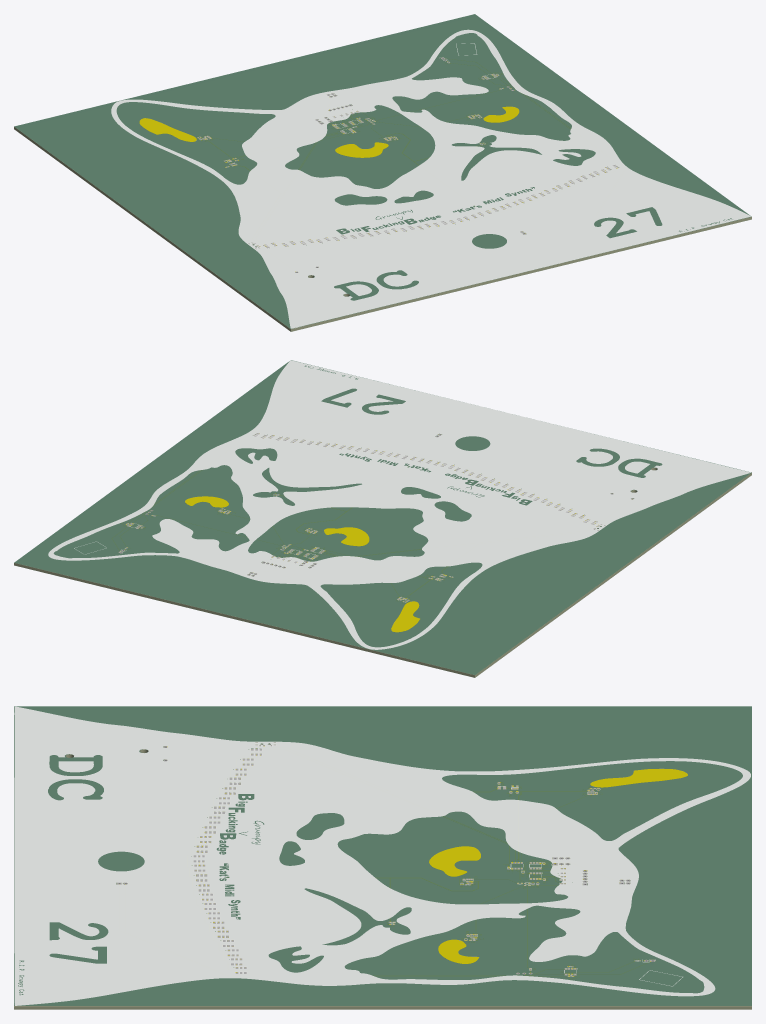
The model's file is bigfuckingbadge-kat-s-midi-synth.glb.
3 renders of one model, top to bottom at view 1: azimuth 30°, elevation 25°; view 2: azimuth 150°, elevation 25°; view 3: azimuth 270°, elevation 25°, orthographic. The views are drawn at different scales.
Parts seen in each view (by area): view 1: =>[0:1:1:7], =>[0:1:1:5], =>[0:1:1:9], =>[0:1:1:2]; view 2: =>[0:1:1:7], =>[0:1:1:5], =>[0:1:1:9], =>[0:1:1:2]; view 3: =>[0:1:1:5], =>[0:1:1:7], =>[0:1:1:9], =>[0:1:1:2].
Boxes of the visible parts, box(x1,y1,x2,y2) form: =>[0:1:1:7]: box(14, 14, 751, 329); =>[0:1:1:5]: box(111, 29, 751, 328); =>[0:1:1:9]: box(14, 15, 751, 331); =>[0:1:1:2]: box(139, 57, 618, 272); =>[0:1:1:7]: box(14, 360, 751, 674); =>[0:1:1:5]: box(48, 360, 750, 649); =>[0:1:1:9]: box(14, 363, 751, 677); =>[0:1:1:2]: box(119, 433, 633, 632); =>[0:1:1:5]: box(14, 706, 750, 1005); =>[0:1:1:7]: box(14, 706, 751, 1005); =>[0:1:1:9]: box(14, 707, 751, 1009); =>[0:1:1:2]: box(117, 742, 687, 976).
Bounding box in the file's own units: 0.2858 × 0.00167 × 0.2975.
4 materials, 4 textured.
